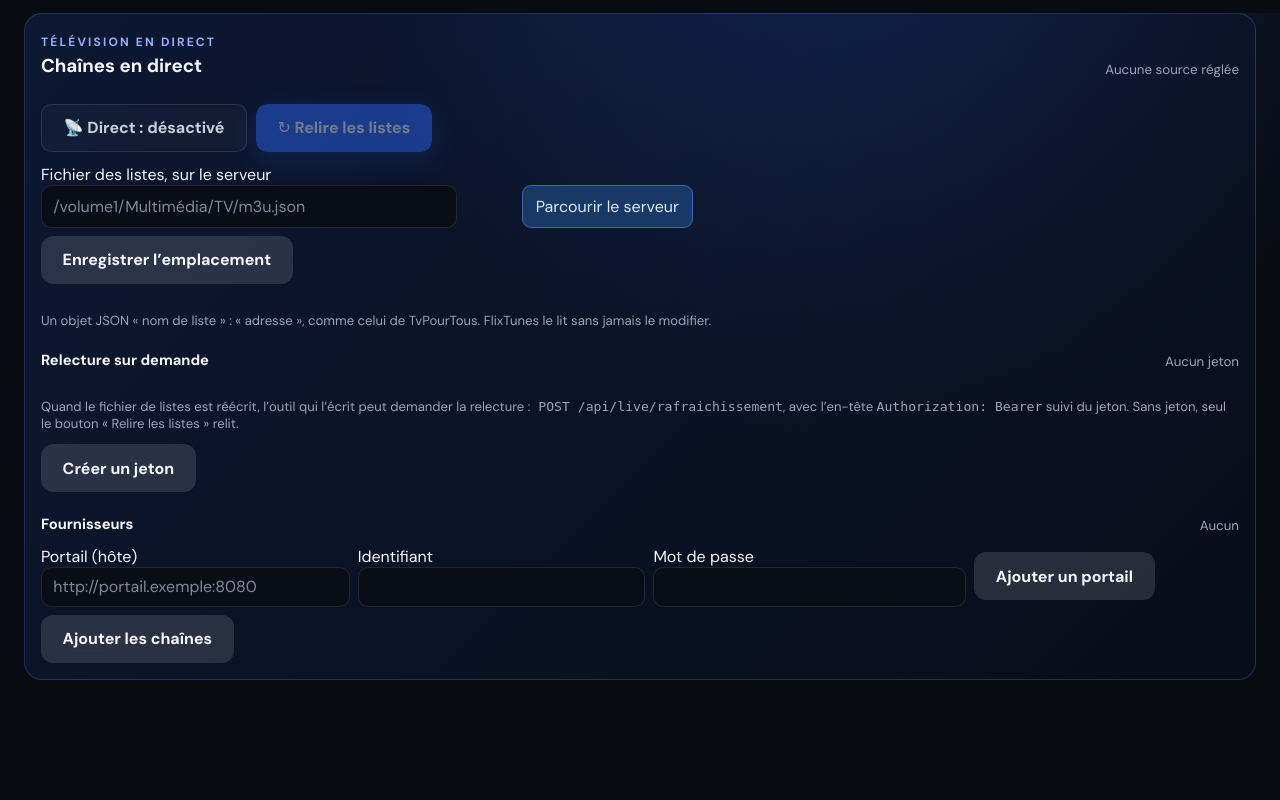
le réglage de la télévision en direct › enregistre un chemin de fichier, découpé pour le serveur
In the field with placeholder "/volume1/Multimédia/TV/m3u.json": (249, 206) top-left (41, 185), bottom-right (457, 228), type "/volume1/TV/mes-listes.json"
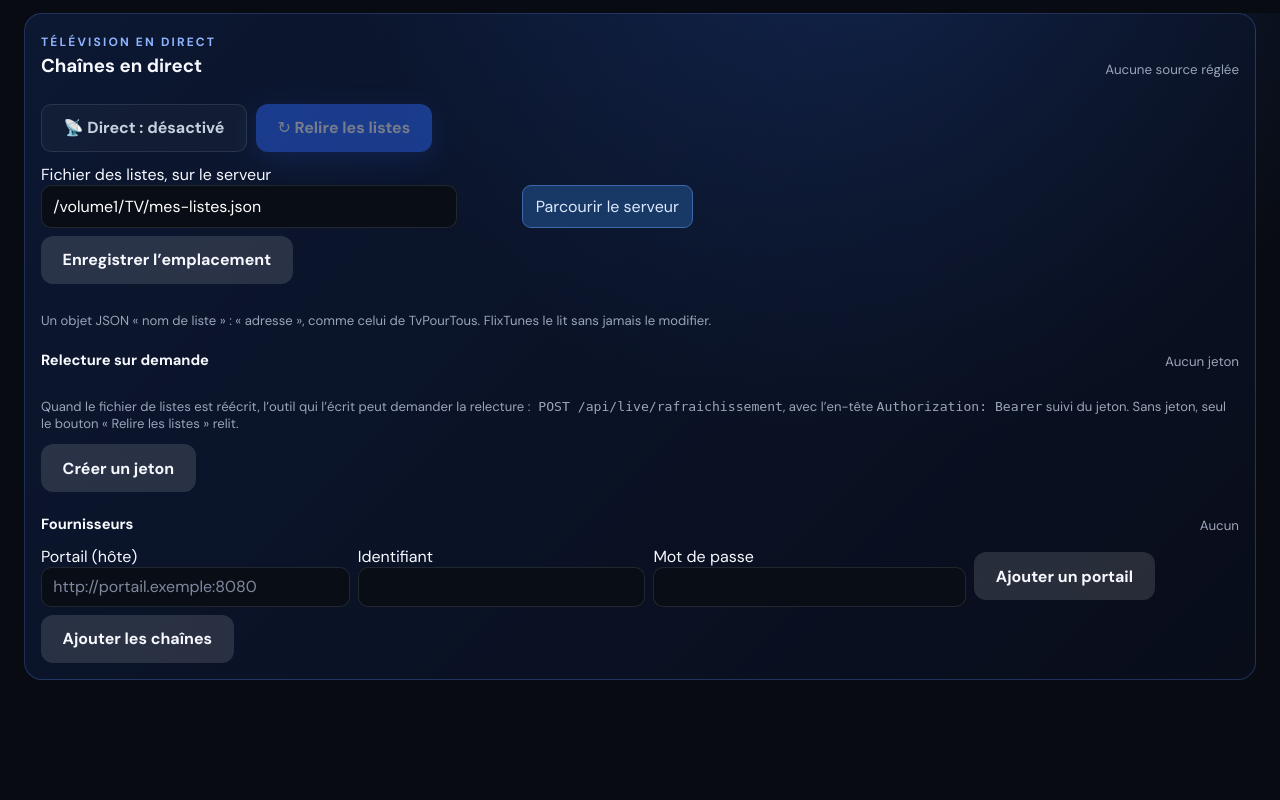
Click the button "Enregistrer l’emplacement": (167, 260) top-left (41, 236), bottom-right (293, 284)
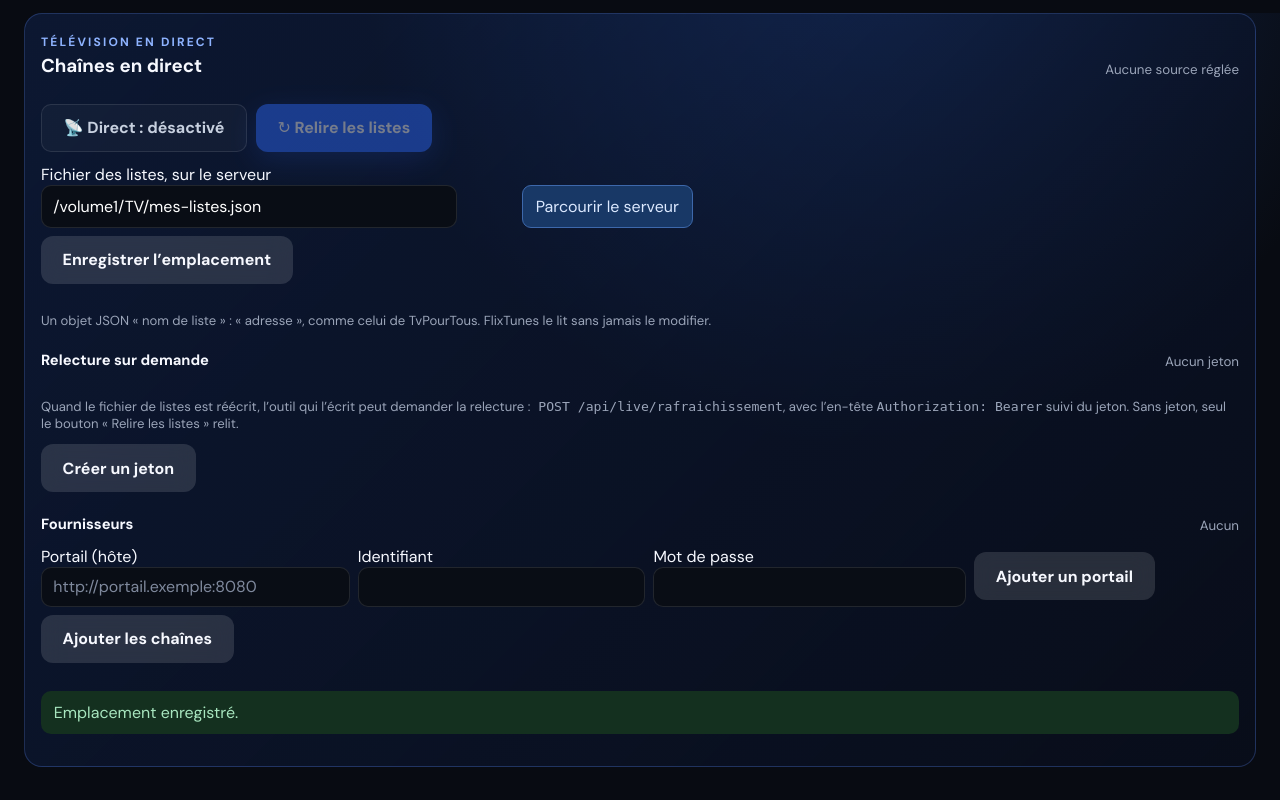
Expected: the text "Emplacement enregistré." is shown, top-left (41, 691), bottom-right (1239, 734)
